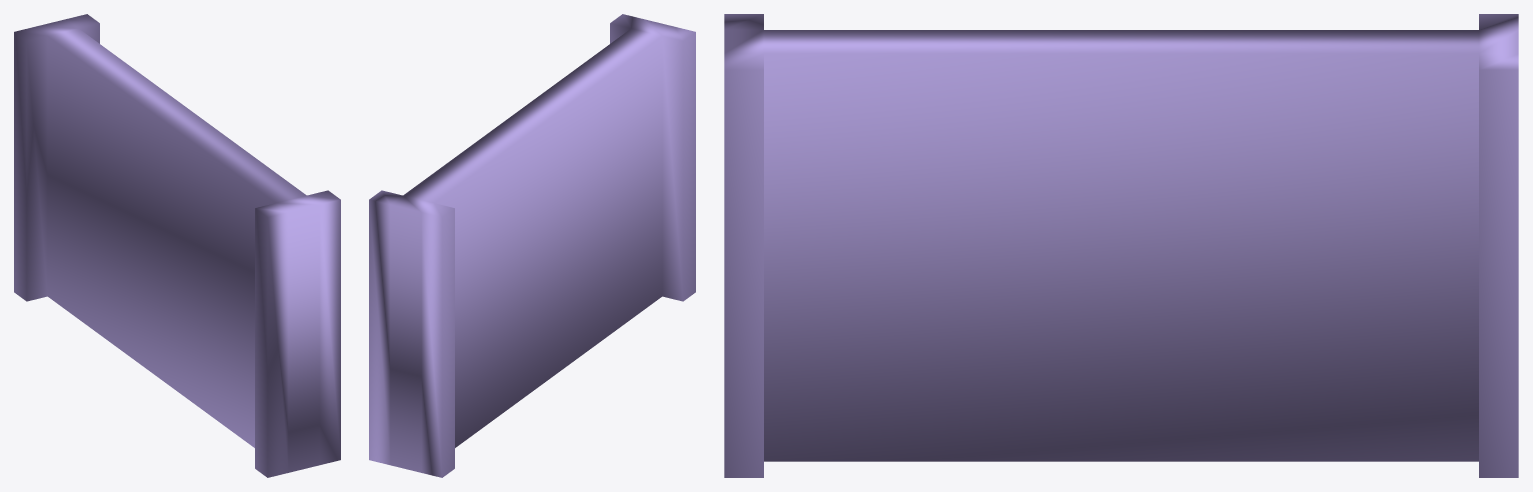
Rendered from Wall.fbx.
The picture shows the model from 3 angles, left to right: view 1: azimuth 30°, elevation 25°; view 2: azimuth 150°, elevation 25°; view 3: azimuth 270°, elevation 25°; orthographic projection. The views are drawn at different scales.
Visible parts, largest first — view 1: Cube.089; view 2: Cube.089; view 3: Cube.089.
Part boxes in pixels (bbox=[...]): Cube.089: bbox=[14, 14, 340, 477]; Cube.089: bbox=[369, 14, 695, 477]; Cube.089: bbox=[724, 14, 1518, 477].
Bounding box in the file's own units: 100 × 340 × 600.
